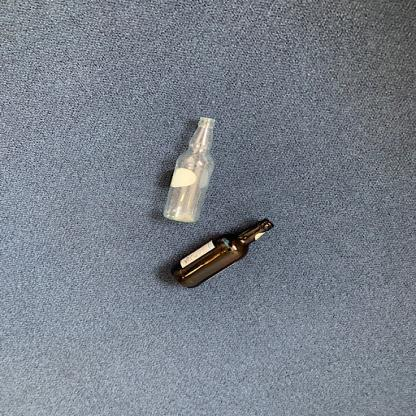trash: (166, 216, 278, 291), (157, 115, 223, 224)
